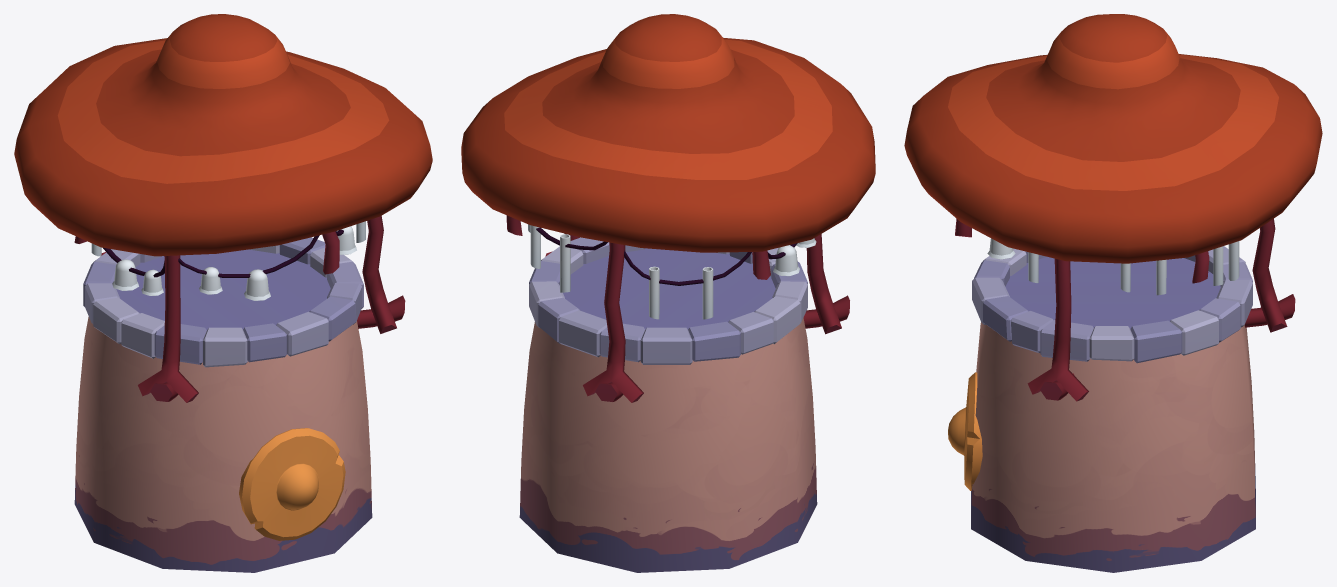
Rendered from S_House1.fbx.
3 renders of one model, left to right at view 1: azimuth 30°, elevation 25°; view 2: azimuth 150°, elevation 25°; view 3: azimuth 270°, elevation 25°, orthographic.
Parts seen in each view (by area): view 1: S_House1; view 2: S_House1; view 3: S_House1.
Boxes of the visible parts, <box> form: S_House1: <box>14,14,432,572</box>; S_House1: <box>461,14,875,572</box>; S_House1: <box>904,14,1322,572</box>.
Size of the model in its own units: 698 by 896 by 698.
